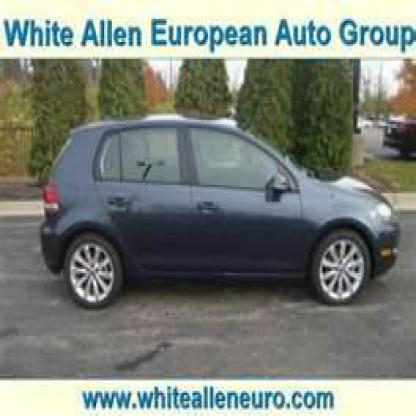Vehicle: (42, 110, 398, 318)
